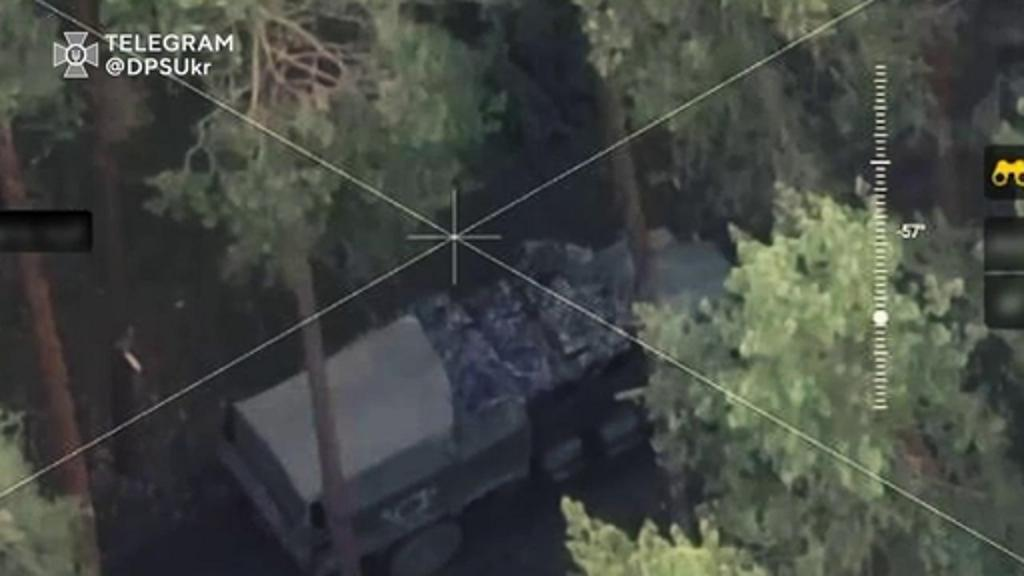TRUCK: (232, 206, 772, 562)
